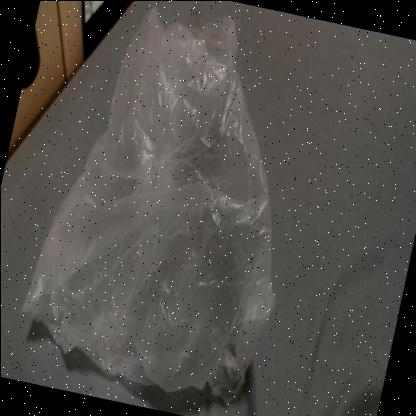Others: (16, 1, 274, 410)
